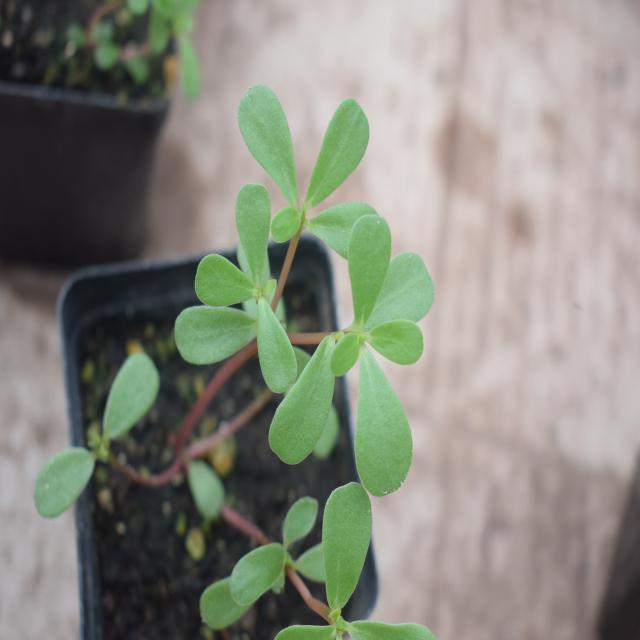purslane: (131, 87, 442, 604)
